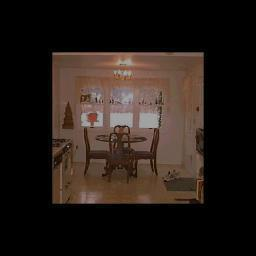Electrodomestico: (61, 143, 72, 201), (52, 150, 60, 203)
